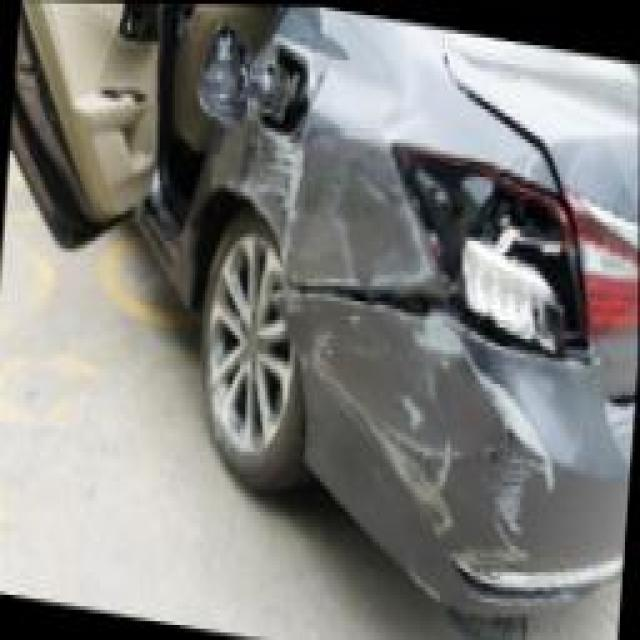Bumper: (308, 305, 571, 569)
Fender: (232, 109, 393, 278)
Light: (420, 166, 603, 368)
